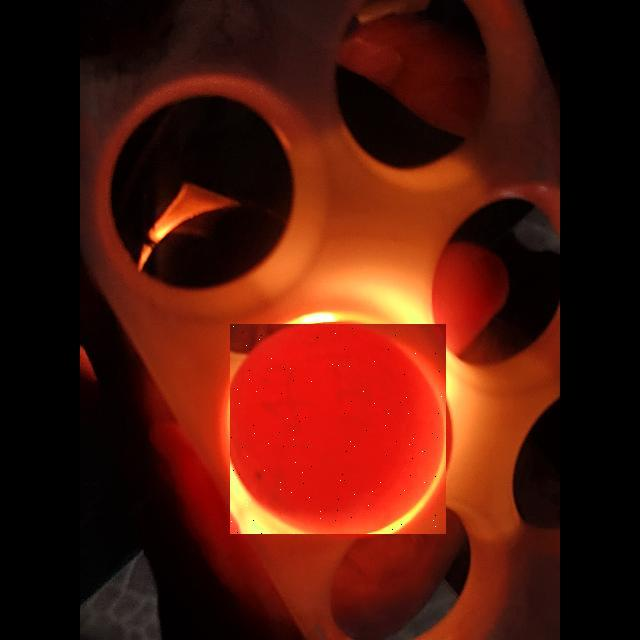Infertile: (230, 324, 446, 534)
